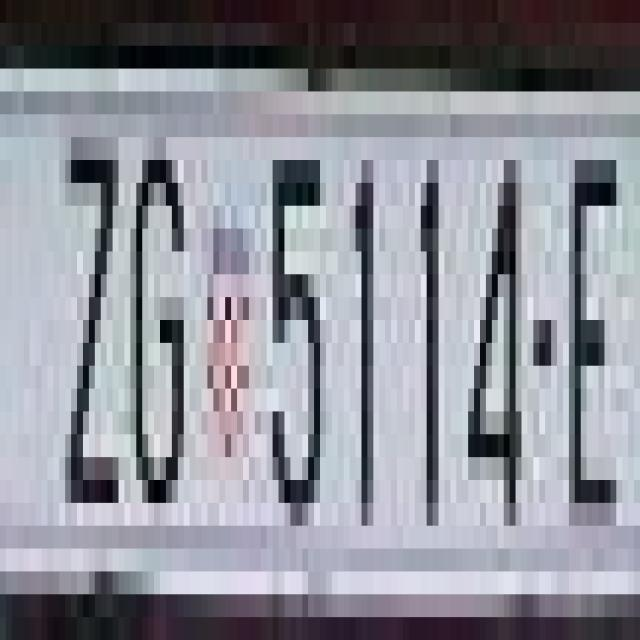1: (341, 126, 382, 537), (406, 126, 447, 537)
4: (462, 137, 528, 549)
5: (261, 114, 326, 526)
E: (566, 137, 625, 526)
G: (130, 137, 190, 503)
Z: (62, 137, 122, 503)
